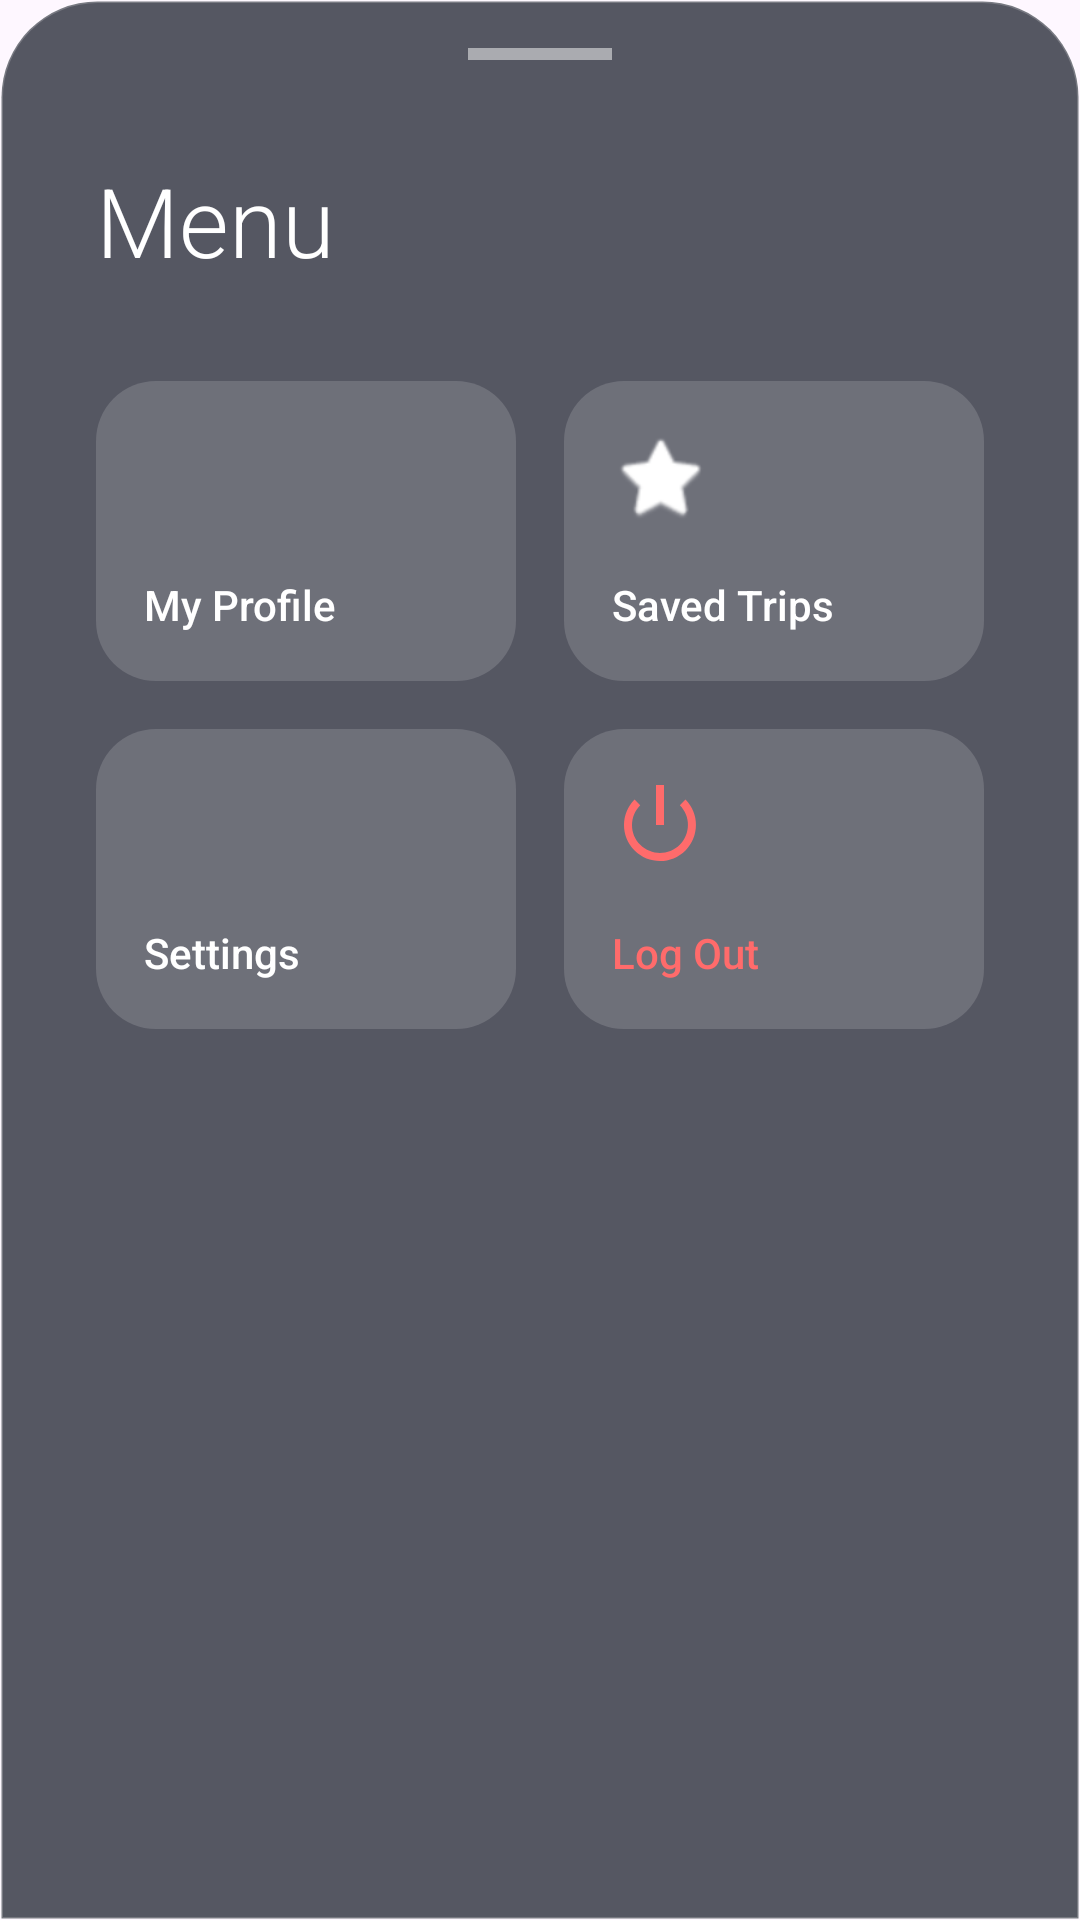

Where to tap for icons on this 1080px×1920px app screen, as (x,y):
lock power off: (660,823)
star: (661,477)
